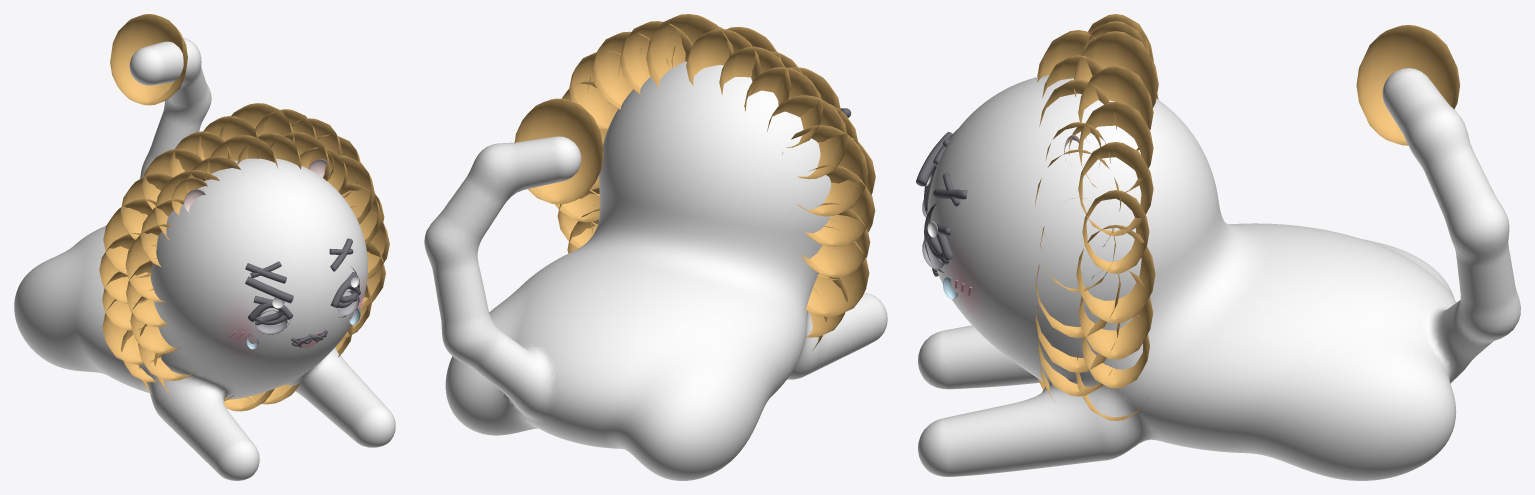
File: a_lion_slime.glb
3 views of the same model, side by side, from view 1: azimuth 30°, elevation 25°; view 2: azimuth 150°, elevation 25°; view 3: azimuth 270°, elevation 25° (orthographic). The views are drawn at different scales.
Visible parts, largest first — view 1: BodyMesh, face_eyes_normal, face_eyes_happy, face_brows_angry, face_eyes_strain, face_brow_smug; view 2: BodyMesh; view 3: BodyMesh, face_eyes_normal.
Part boxes in pixels (x1,y1,x2,y2): BodyMesh: (14,14,395,480); face_eyes_normal: (256,267,359,334); face_eyes_happy: (247,283,360,321); face_brows_angry: (245,238,352,283); face_eyes_strain: (253,272,357,325); face_brow_smug: (245,276,293,303); BodyMesh: (424,14,887,480); BodyMesh: (918,14,1520,480); face_eyes_normal: (922,166,944,272).
Bounding box in the file's own units: 1.8 × 1.92 × 2.56.
